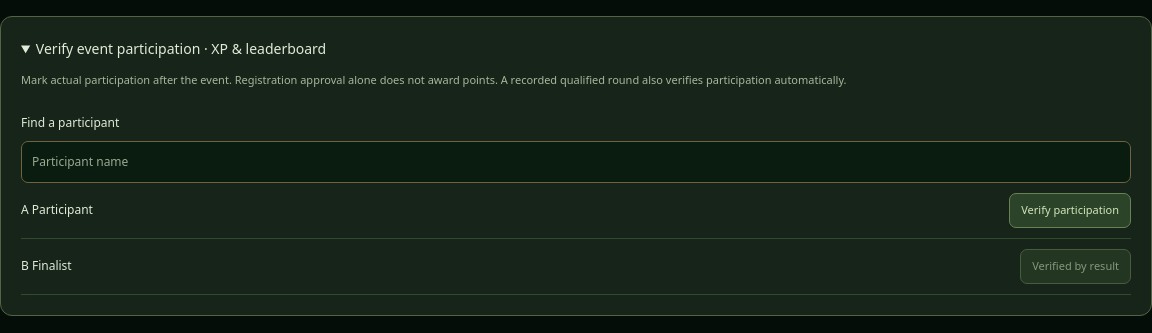
Test case: lets staff verify and undo attendance, while a qualified result remains authoritative
Later steps or results of the test are not shown.
Expected: the button "Verified by result" is disabled, [1020,249,1131,284]
Click the button "Verify participation": (1070, 211) [1009,193,1131,228]
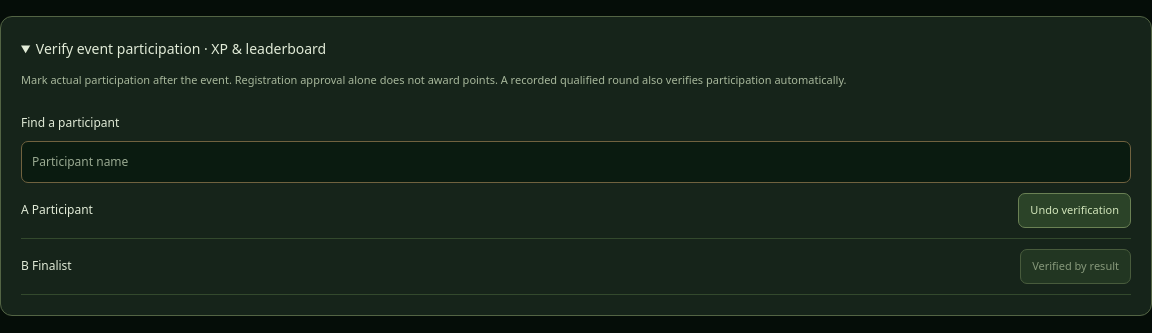
Now the button "Undo verification" is shown, box [1018,193,1131,228]
